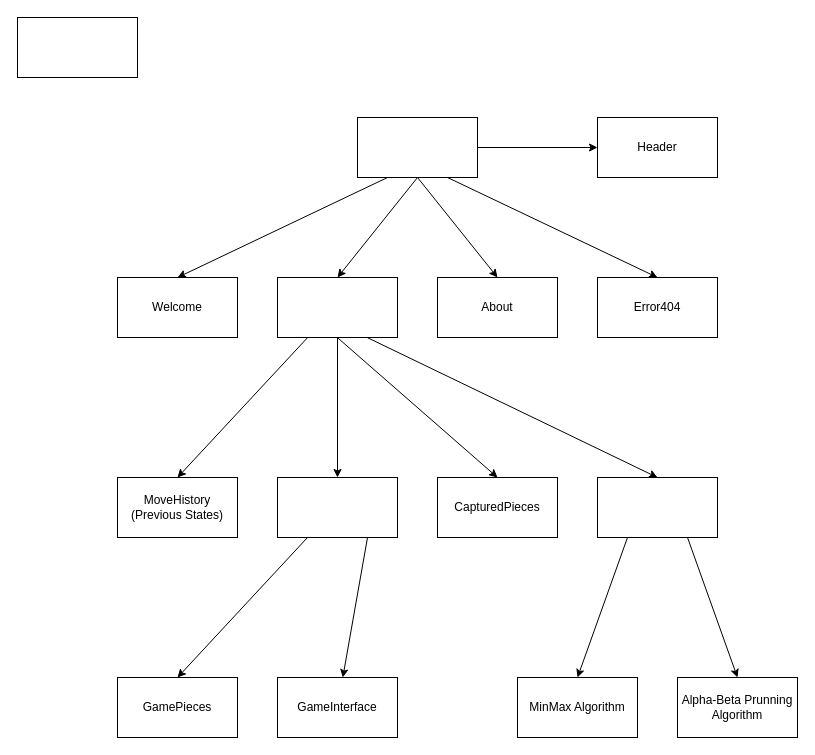
Some shapes in this 815 by 755 pixel diagram are drawn without their labels. Here are the shapes that lost their labels. From the top down, the centre of each, then its label:
(77,47): Capstone Project: Chess Variant: Tamerlame Chess 2000
(417,147): App
(337,307): GameRoute
(337,507): GameBoard
(657,507): A.I.
